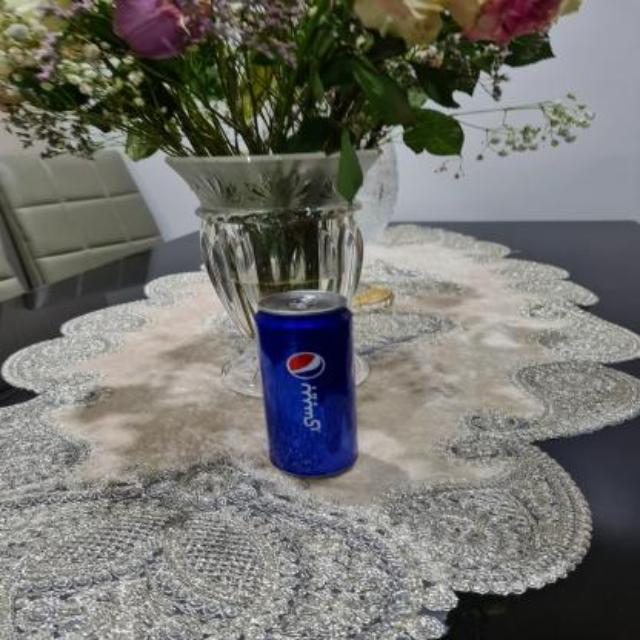metal: (254, 291, 357, 477)
